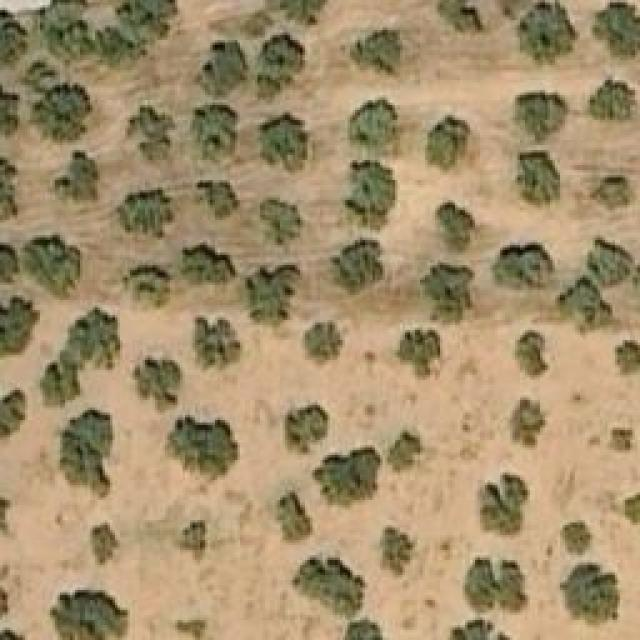Tree: (57, 408, 115, 498), (503, 0, 578, 68), (293, 550, 368, 618), (102, 0, 180, 60), (168, 415, 238, 480), (60, 305, 120, 373), (313, 447, 383, 505), (50, 590, 130, 640), (560, 563, 620, 628), (40, 0, 95, 68), (420, 263, 480, 323), (25, 233, 83, 293), (345, 163, 398, 228), (242, 265, 300, 323), (240, 0, 328, 38), (258, 115, 313, 175), (108, 183, 168, 238), (193, 42, 248, 100), (465, 558, 525, 611), (38, 80, 91, 140), (125, 108, 175, 171), (257, 33, 305, 98), (493, 242, 556, 290), (480, 473, 528, 536), (178, 243, 238, 293), (330, 240, 383, 295), (130, 358, 183, 408), (348, 98, 398, 151), (592, 3, 640, 58), (518, 93, 568, 143), (285, 400, 330, 455), (195, 318, 243, 368), (350, 30, 403, 75), (428, 115, 471, 170), (518, 153, 561, 208), (0, 298, 38, 358), (260, 198, 303, 251), (55, 150, 100, 200), (590, 78, 638, 123), (398, 327, 443, 375), (510, 398, 550, 451), (122, 265, 170, 308), (0, 2, 32, 65), (277, 493, 315, 546), (195, 108, 235, 158), (438, 202, 478, 250), (303, 323, 343, 368), (175, 513, 210, 563), (195, 180, 240, 218), (437, 0, 490, 32), (40, 363, 78, 406), (563, 285, 603, 325), (515, 330, 548, 378), (0, 143, 18, 223), (383, 527, 413, 575), (588, 243, 621, 286), (452, 617, 507, 640), (388, 432, 421, 470), (558, 523, 593, 556), (595, 175, 630, 208), (90, 523, 118, 563), (343, 620, 396, 640), (0, 390, 22, 435), (617, 342, 640, 372), (175, 620, 208, 640), (610, 430, 635, 453), (625, 493, 640, 523)
